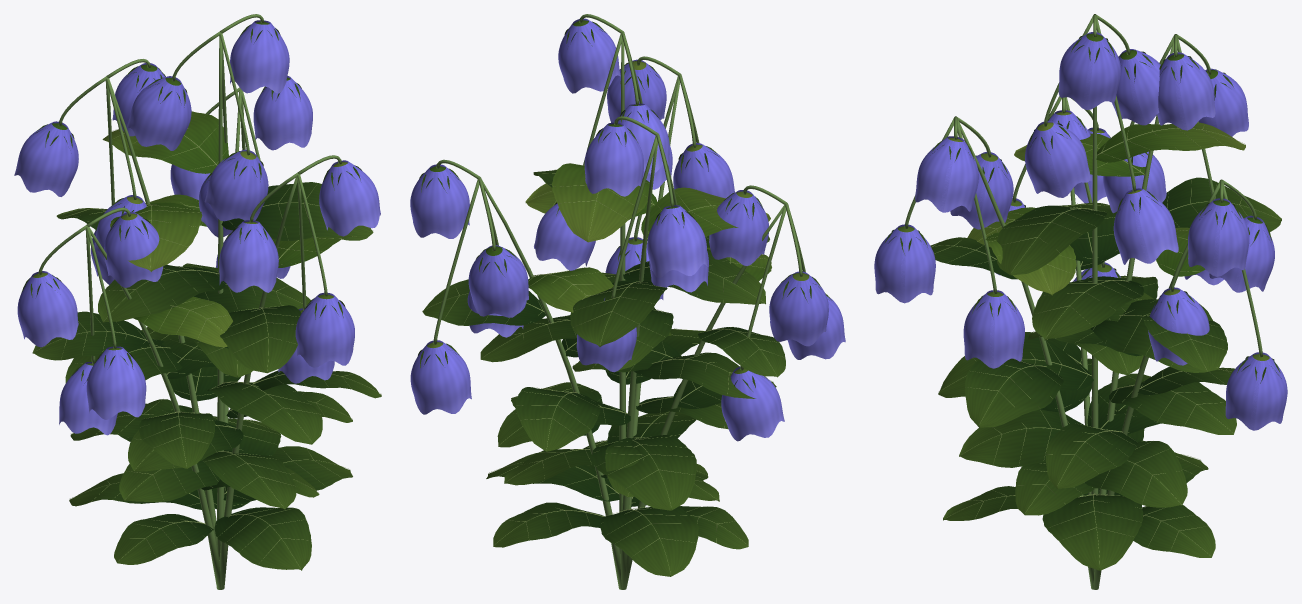
The model's file is bellflower-10.glb.
The picture shows the model from 3 angles, left to right: view 1: azimuth 30°, elevation 25°; view 2: azimuth 150°, elevation 25°; view 3: azimuth 270°, elevation 25°; orthographic projection. The views are drawn at different scales.
Parts seen in each view (by area): view 1: bellflower_stage_10_leaf_veins.018, bellflower_stage_10_bellflower_petal.018, bellflower_stage_10_young_leaf.018, bellflower_stage_10_stem_fibres.018, bellflower_stage_10_raised_midveins.018; view 2: bellflower_stage_10_leaf_veins.018, bellflower_stage_10_bellflower_petal.018, bellflower_stage_10_stem_fibres.018, bellflower_stage_10_young_leaf.018, bellflower_stage_10_raised_midveins.018; view 3: bellflower_stage_10_leaf_veins.018, bellflower_stage_10_bellflower_petal.018, bellflower_stage_10_young_leaf.018, bellflower_stage_10_stem_fibres.018, bellflower_stage_10_raised_midveins.018.
Part boxes in pixels (bbox=[...]): bellflower_stage_10_leaf_veins.018: bbox=[21, 24, 381, 570]; bellflower_stage_10_bellflower_petal.018: bbox=[14, 20, 380, 435]; bellflower_stage_10_young_leaf.018: bbox=[32, 21, 360, 365]; bellflower_stage_10_stem_fibres.018: bbox=[38, 14, 341, 589]; bellflower_stage_10_raised_midveins.018: bbox=[33, 115, 380, 568]; bellflower_stage_10_leaf_veins.018: bbox=[418, 21, 831, 576]; bellflower_stage_10_bellflower_petal.018: bbox=[410, 18, 845, 441]; bellflower_stage_10_stem_fibres.018: bbox=[433, 14, 805, 589]; bellflower_stage_10_young_leaf.018: bbox=[427, 20, 809, 373]; bellflower_stage_10_raised_midveins.018: bbox=[427, 163, 784, 574]; bellflower_stage_10_leaf_veins.018: bbox=[885, 33, 1281, 570]; bellflower_stage_10_bellflower_petal.018: bbox=[874, 32, 1287, 430]; bellflower_stage_10_young_leaf.018: bbox=[897, 33, 1269, 360]; bellflower_stage_10_stem_fibres.018: bbox=[904, 14, 1262, 589]; bellflower_stage_10_raised_midveins.018: bbox=[931, 125, 1280, 564].
Bounding box in the file's own units: 0.4166 × 0.6453 × 0.4142.
Materials: 5 (3 with a texture image).
